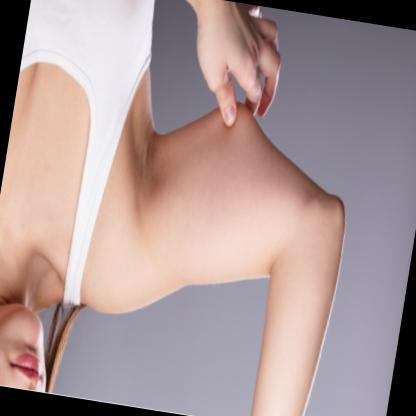Healthy Skin: (86, 130, 358, 340), (0, 76, 84, 310), (174, 0, 307, 145), (250, 328, 319, 416)
